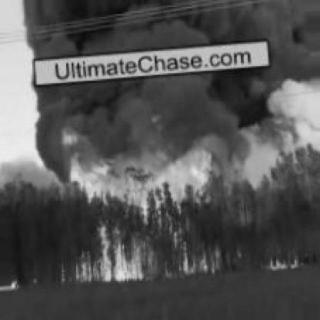Smoke: (27, 2, 311, 136)
